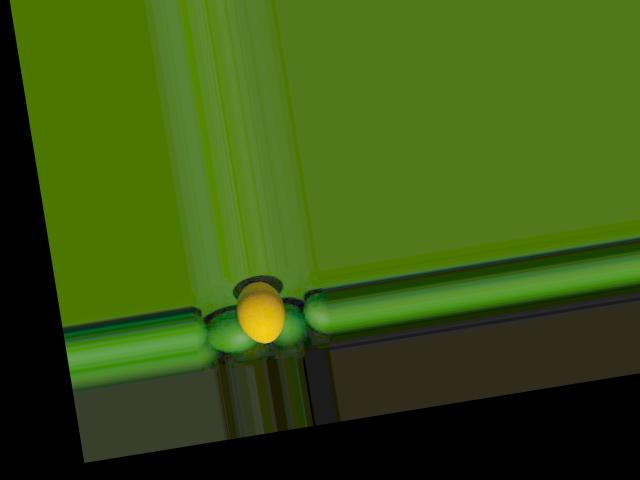egg: (232, 277, 288, 346)
